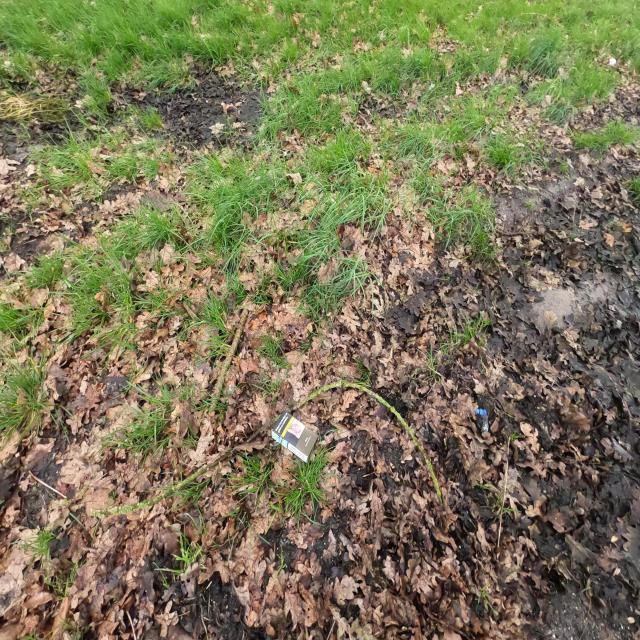Paper: (270, 410, 320, 464)
Plastic: (474, 408, 490, 432)
